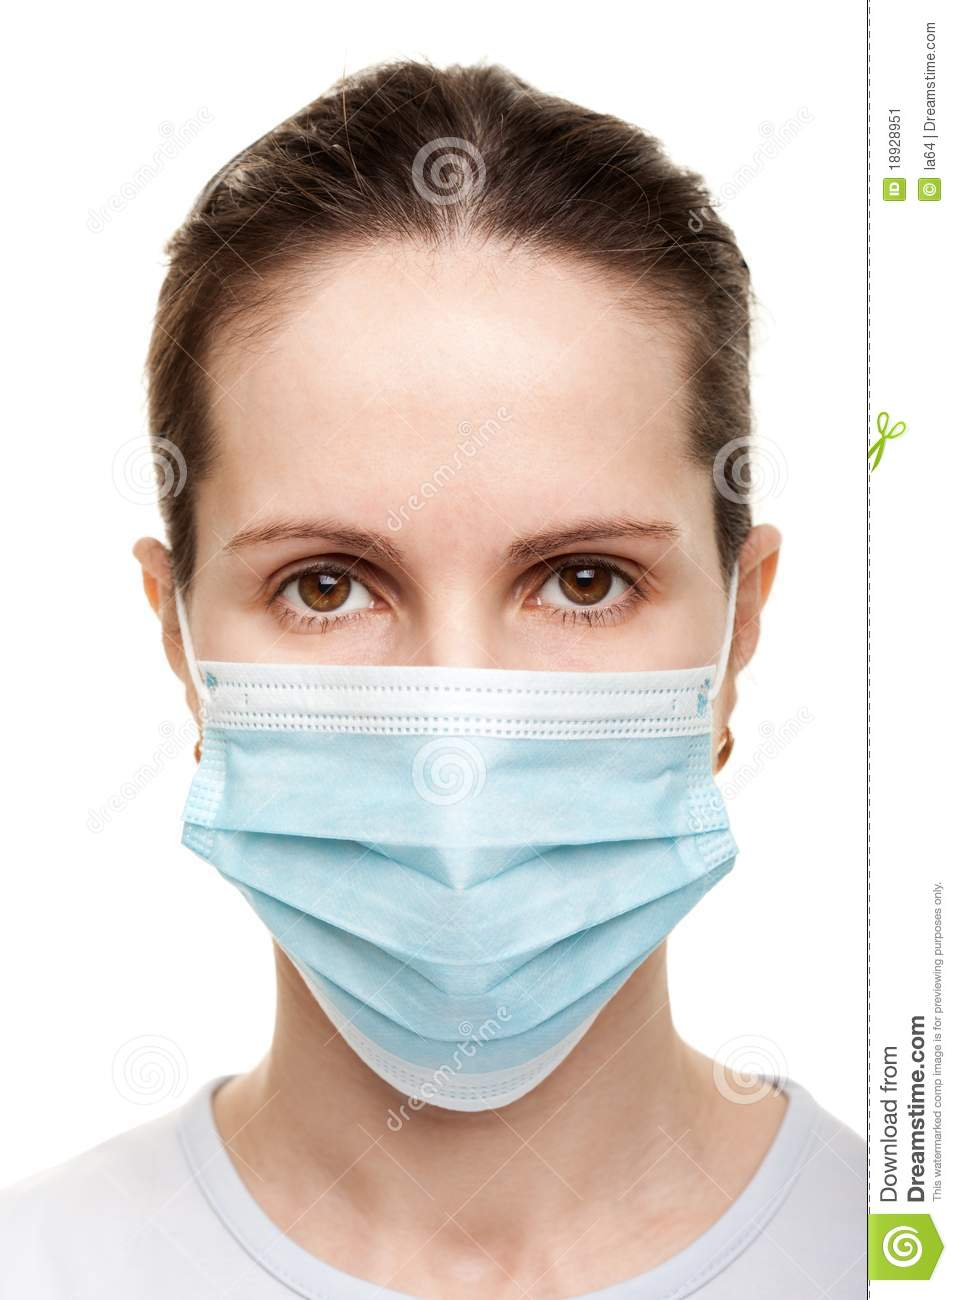mask: (186, 655, 739, 1120)
